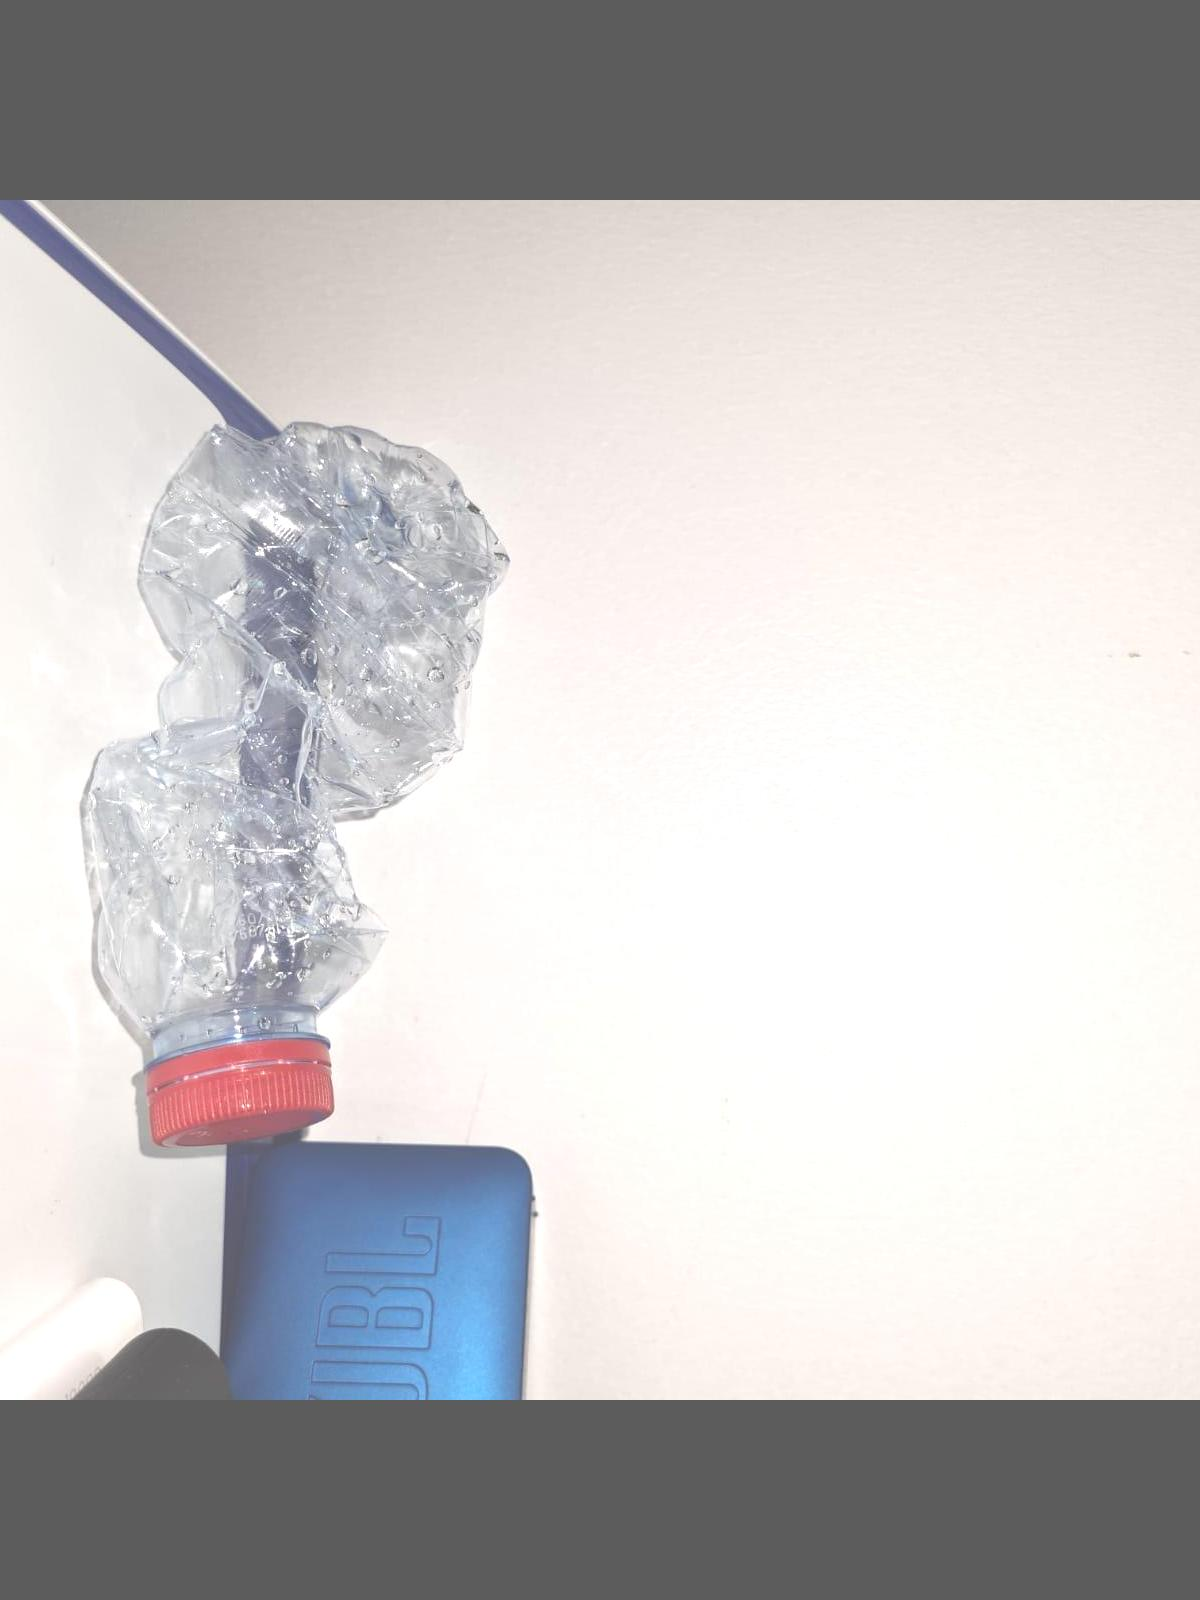bottle: (53, 401, 543, 1156)
